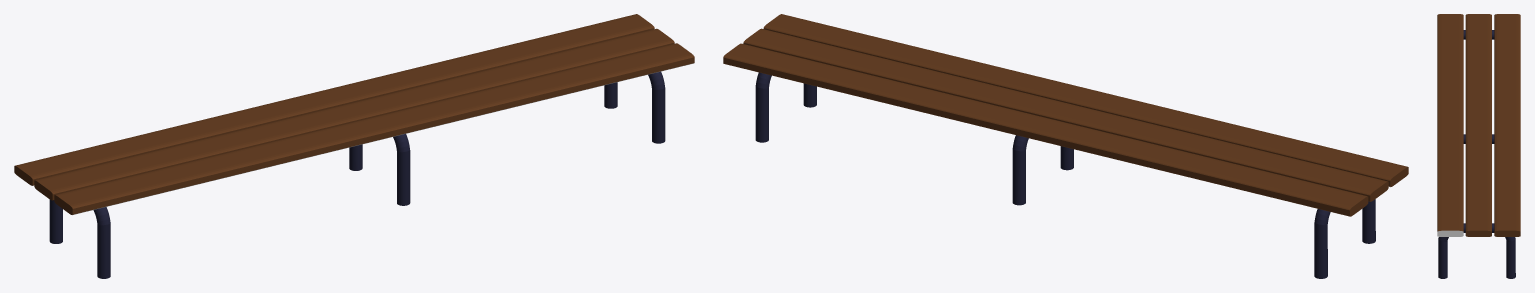
File: banc.fbx
The picture shows the model from 3 angles, left to right: view 1: azimuth 30°, elevation 25°; view 2: azimuth 150°, elevation 25°; view 3: azimuth 270°, elevation 25°; orthographic projection. The views are drawn at different scales.
Parts seen in each view (by area): view 1: Planche.001; view 2: Planche.001; view 3: Planche.001.
Part boxes in pixels (left/top/right/bottom): Planche.001: left=14, top=14, right=694, bottom=278; Planche.001: left=723, top=14, right=1408, bottom=278; Planche.001: left=1437, top=14, right=1520, bottom=278.
Size of the model in its own units: 2.35 by 0.2893 by 0.3816.
